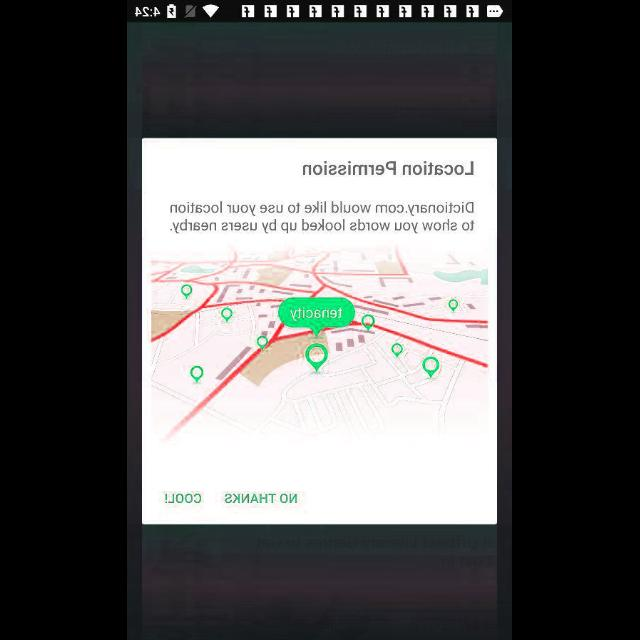map: (152, 247, 488, 448)
panel: (143, 138, 497, 524)
text: (170, 201, 474, 235), (302, 160, 473, 176), (225, 492, 298, 503), (165, 493, 202, 503)
uppertaskbar: (128, 1, 512, 23)
